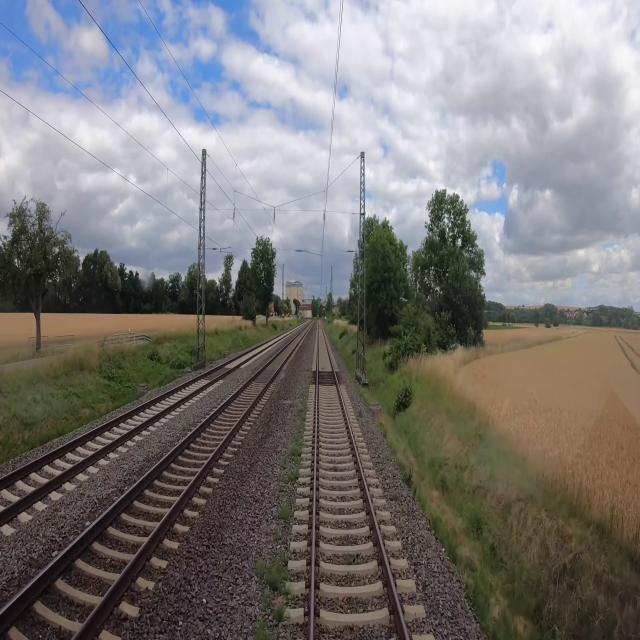Plant: (250, 554, 290, 597), (281, 455, 299, 483), (251, 619, 276, 639), (288, 432, 303, 465), (295, 400, 308, 433), (274, 601, 286, 621), (278, 503, 291, 520), (377, 454, 385, 473), (262, 589, 270, 607), (273, 527, 282, 542), (347, 552, 356, 565), (276, 484, 284, 492), (358, 408, 364, 418)
